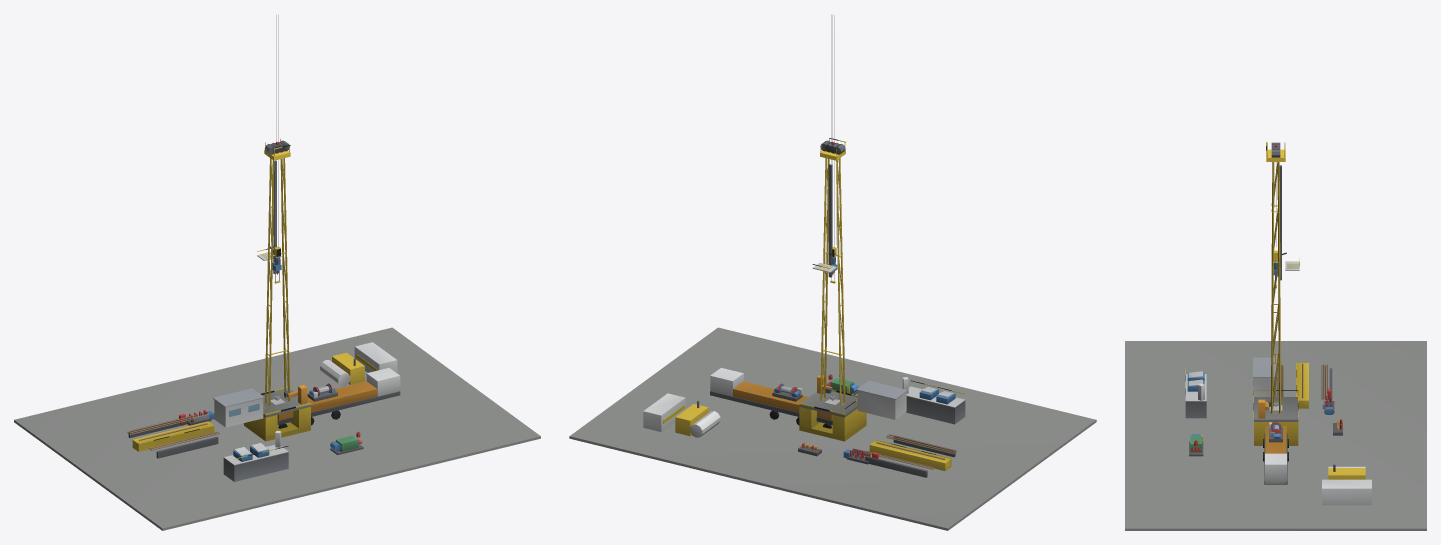
File: workover_low.glb
3 views of the same model, side by side, from view 1: azimuth 30°, elevation 25°; view 2: azimuth 150°, elevation 25°; view 3: azimuth 270°, elevation 25° (orthographic).
Visible parts, largest first — view 1: site__pad, mast__mast, carrier__truck, mast__doghouse, mudtanks__tanks, pipehandling__racker, mast__substructure, pipehandling__catwalk, generators__vfd, mast__floor, generators__gensets; view 2: site__pad, mast__mast, carrier__truck, mast__doghouse, mast__substructure, mudtanks__tanks, pipehandling__racker, generators__vfd, pipehandling__catwalk, mast__floor, generators__gensets, block__travelling; view 3: site__pad, mast__mast, generators__vfd, carrier__truck, mast__floor, mast__doghouse, mudtanks__tanks, mast__substructure, pipehandling__catwalk, pipehandling__racker, generators__gensets.
Boxes of the visible parts, x1,y1,x2,y2 form: site__pad: (14,327,540,530); mast__mast: (264,158,290,405); carrier__truck: (277,368,400,428); mast__doghouse: (213,388,264,427); mudtanks__tanks: (223,445,288,481); pipehandling__racker: (127,415,219,458); mast__substructure: (244,407,310,441); pipehandling__catwalk: (132,421,214,451); generators__vfd: (354,342,397,372); mast__floor: (261,387,311,417); generators__gensets: (332,352,364,384); site__pad: (569,327,1096,530); mast__mast: (820,158,845,405); carrier__truck: (710,367,832,428); mast__doghouse: (856,380,907,419); mast__substructure: (799,407,866,441); mudtanks__tanks: (906,380,965,424); pipehandling__racker: (864,434,956,477); generators__vfd: (643,393,685,431); pipehandling__catwalk: (869,440,951,471); mast__floor: (799,389,857,417); generators__gensets: (675,400,708,436); block__travelling: (831,14,836,257); site__pad: (1125,341,1426,530); mast__mast: (1271,162,1280,413); generators__vfd: (1322,479,1371,505); carrier__truck: (1263,426,1288,484); mast__floor: (1253,390,1298,421); mast__doghouse: (1253,357,1277,396); mudtanks__tanks: (1185,368,1206,418); mast__substructure: (1254,422,1298,445); pipehandling__catwalk: (1296,363,1308,408); pipehandling__racker: (1277,364,1332,402); generators__gensets: (1328,464,1365,479).
Size of the model in its own units: 50 by 53.07 by 34.
